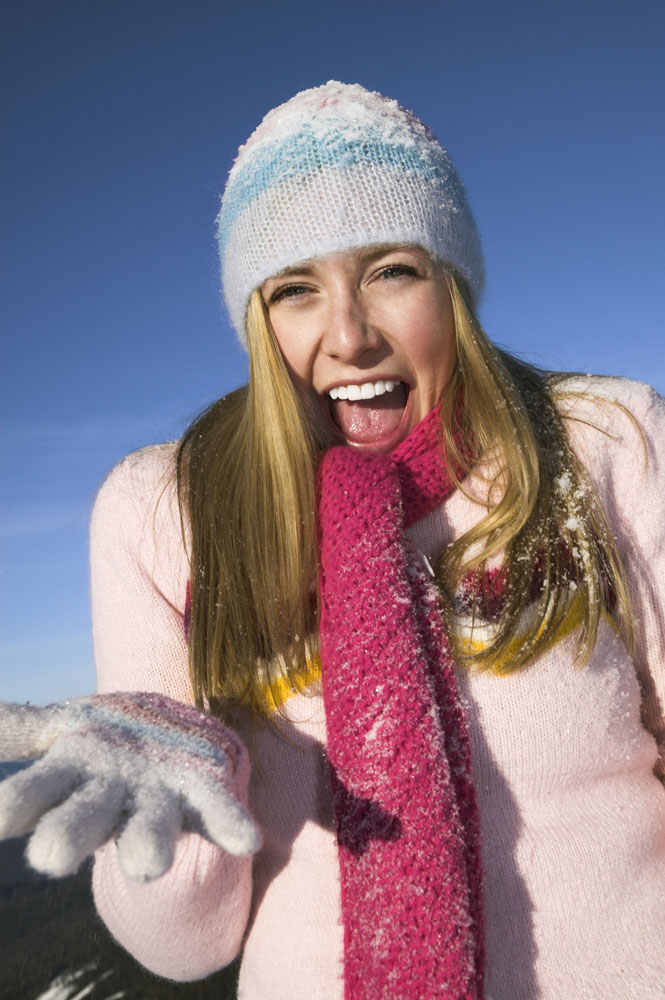face: (261, 163, 451, 457)
